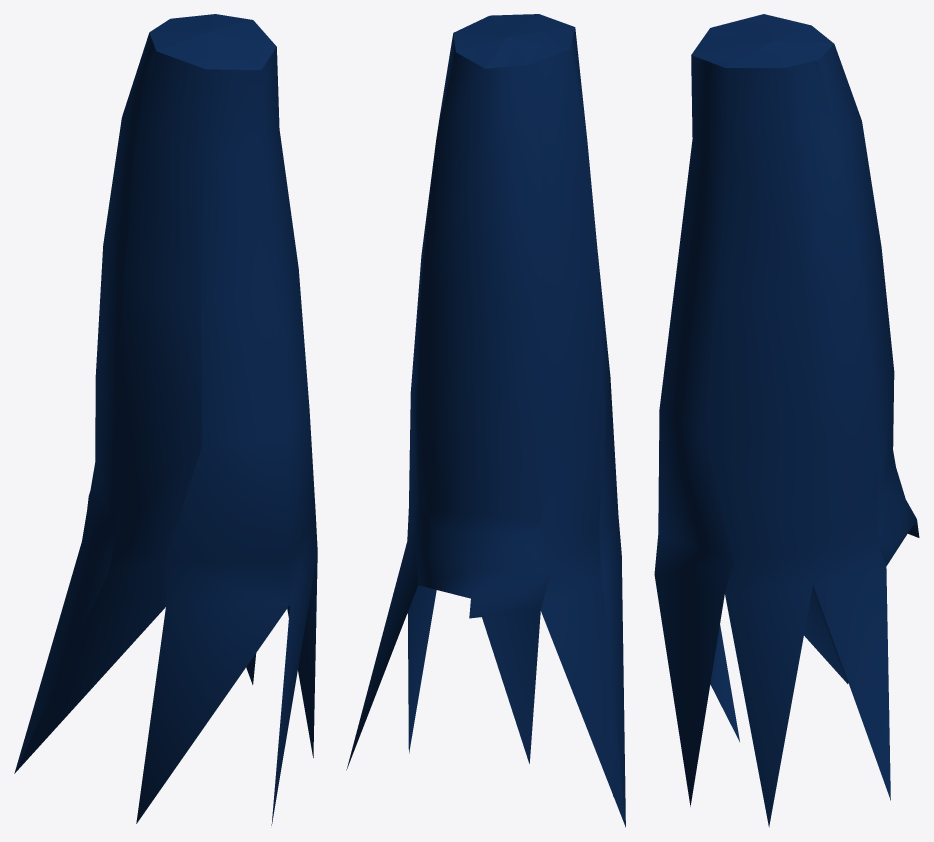
Rendered from right_leg.glb.
3 views of the same model, side by side, from view 1: azimuth 30°, elevation 25°; view 2: azimuth 150°, elevation 25°; view 3: azimuth 270°, elevation 25° (orthographic).
Parts seen in each view (by area): view 1: trousers-navy_RIGHT_LEG; view 2: trousers-navy_RIGHT_LEG; view 3: trousers-navy_RIGHT_LEG.
Part boxes in pixels (x1=…): trousers-navy_RIGHT_LEG: x1=14, y1=14, x2=317, y2=825; trousers-navy_RIGHT_LEG: x1=346, y1=14, x2=625, y2=827; trousers-navy_RIGHT_LEG: x1=654, y1=14, x2=919, y2=827.
Size of the model in its own units: 0.2181 by 0.6158 by 0.1954.
1 material, 1 textured.
